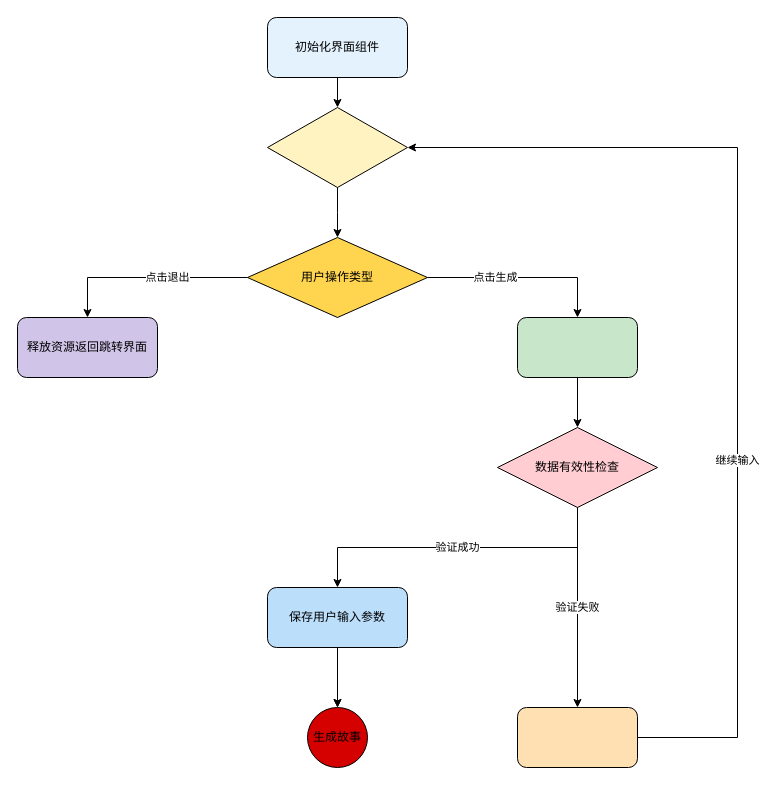
This 777x785 diagram has some shape labels left out. Each missing label, with the centre of its shape:
显示错误提示: (x=577, y=737)
生成按钮点击: (x=577, y=347)
进入事件循环: (x=337, y=147)
